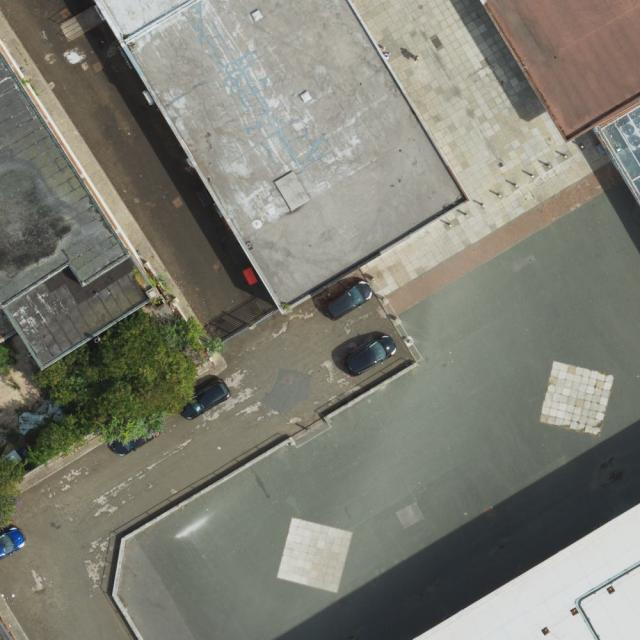roof: (97, 0, 469, 315), (0, 48, 158, 371), (483, 0, 640, 212), (413, 503, 640, 640)
